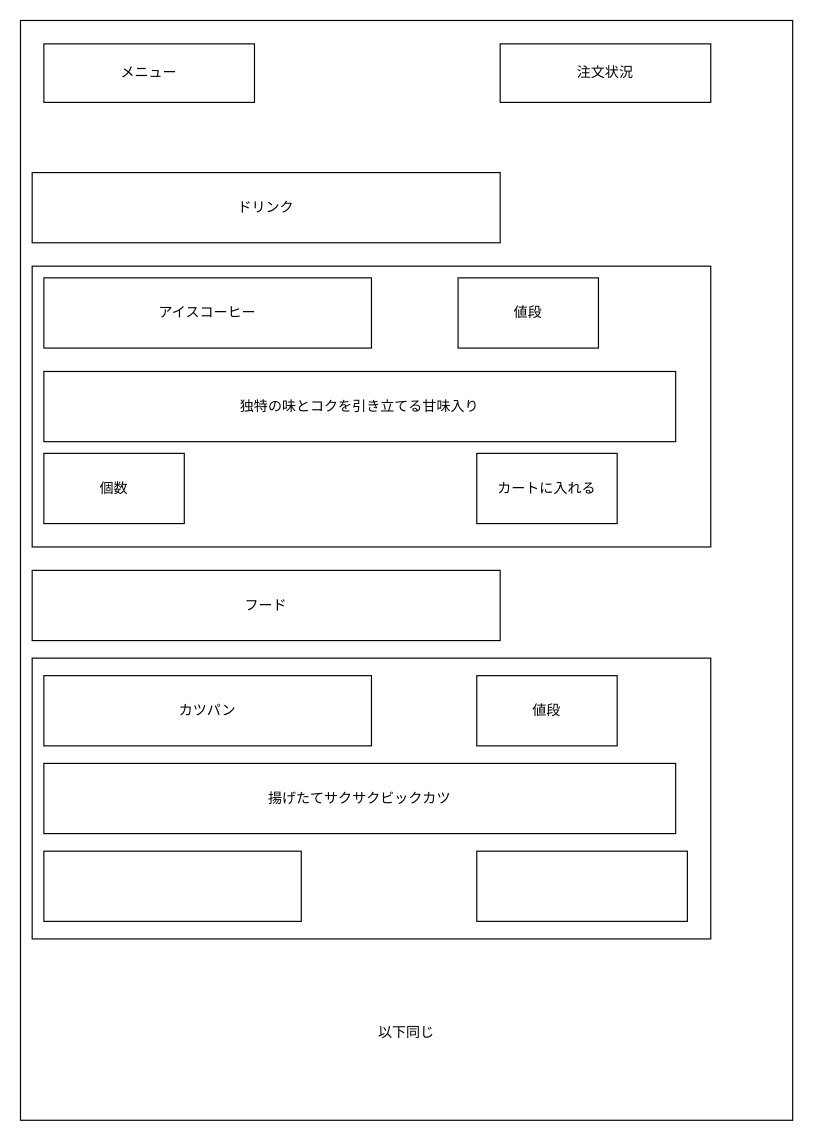
Some shapes in this 813 by 1141 pixel diagram are drawn without their labels. Each missing label, with the centre of its shape:
カートに入れる （押せません）: (581,885)
値段（選べません）: (172,885)
